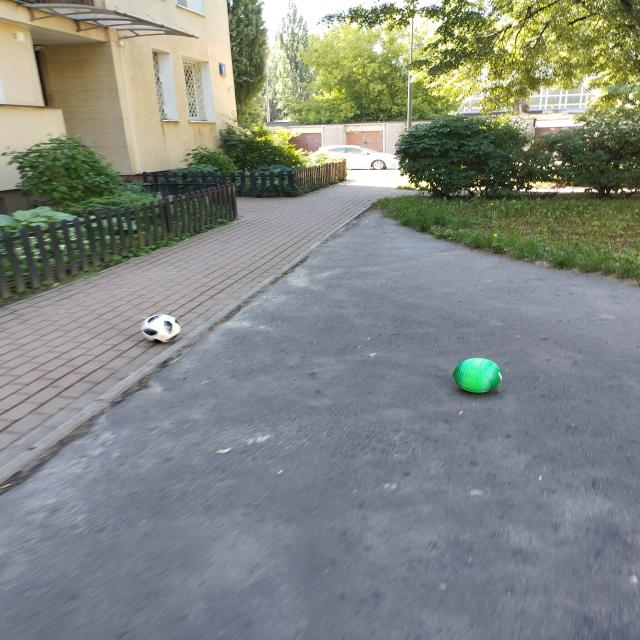nozna: (142, 314, 181, 343)
zielona: (453, 358, 503, 393)
